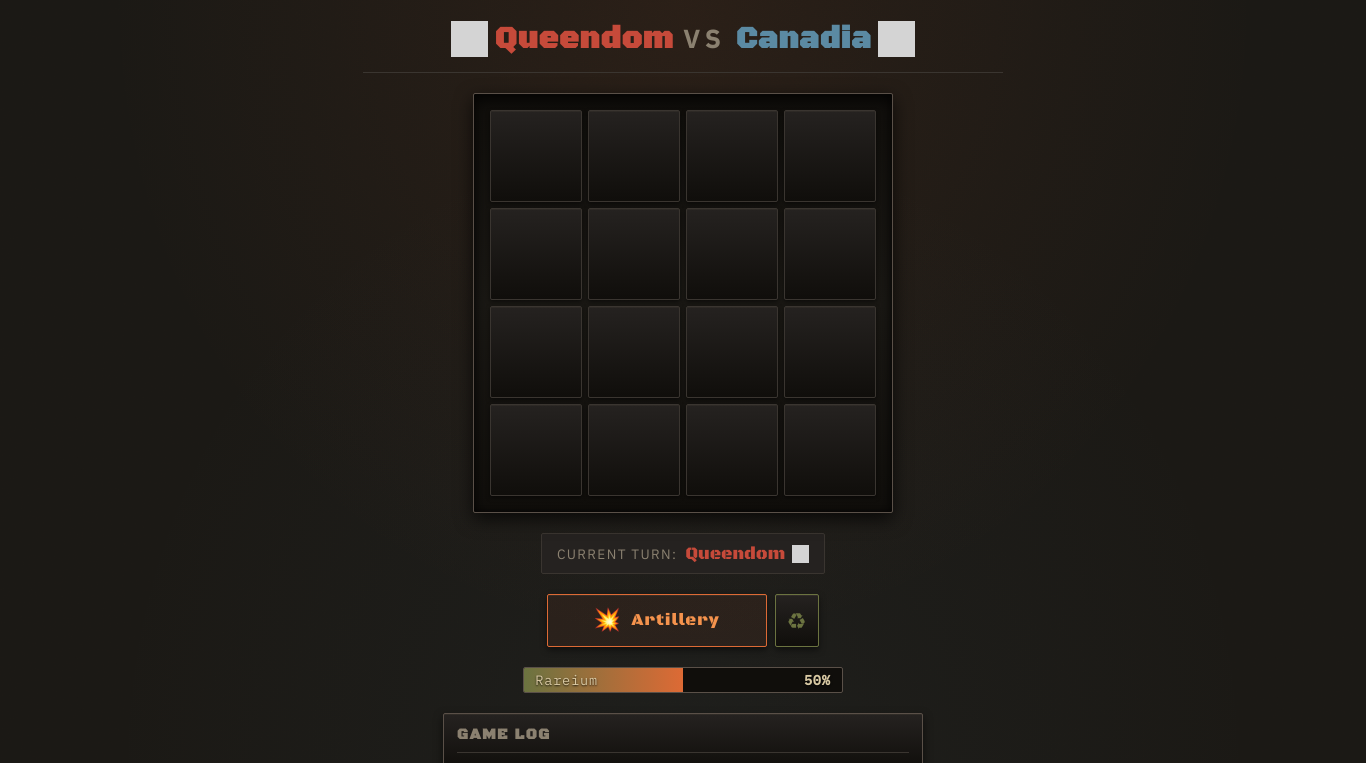
Test case: recycle-bekreftelse › lukker dialogen, og husker den ikke, når våpenet forsvinner
This screenshot has width=1366, height=763.
Click the button named "Recycle strategic weapon": (797, 621) x1=775 y1=594 x2=819 y2=648
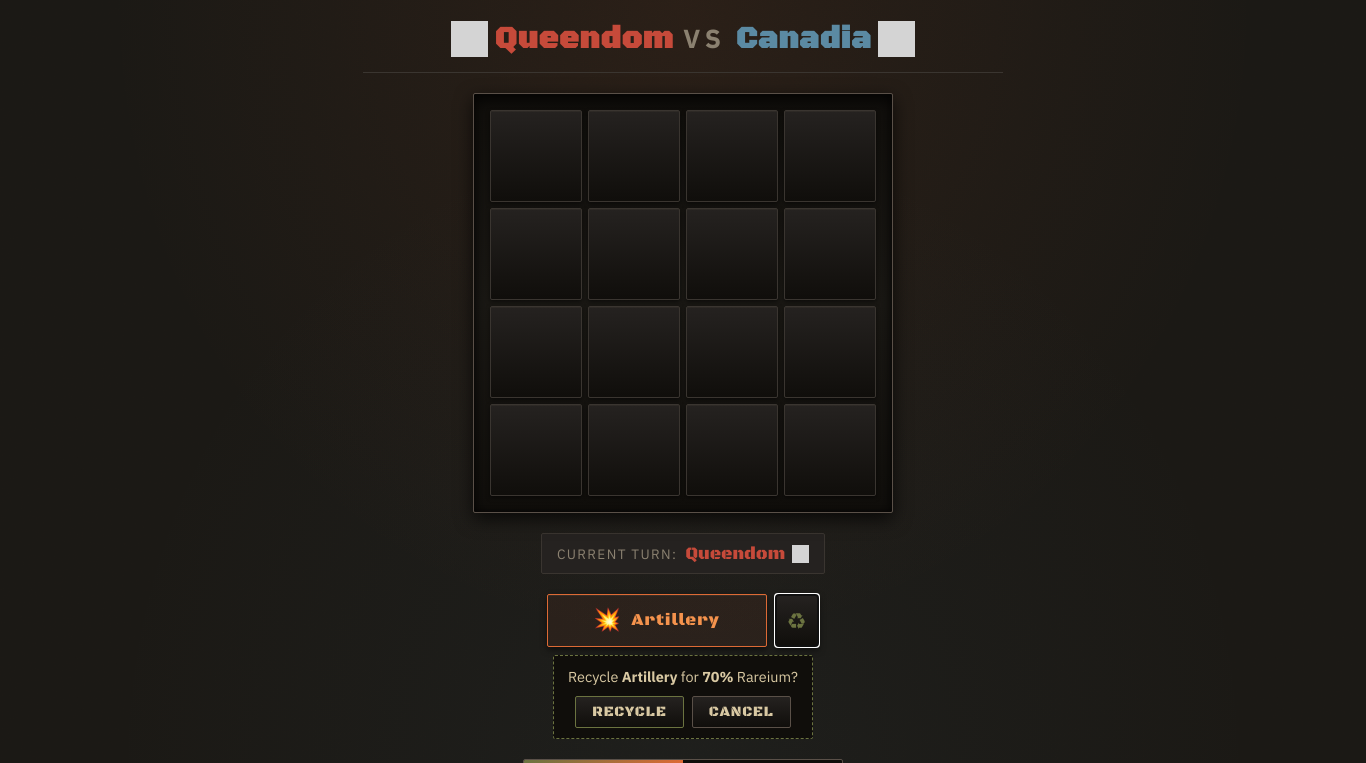
Check: the dialog is shown, box x1=553 y1=656 x2=813 y2=739
